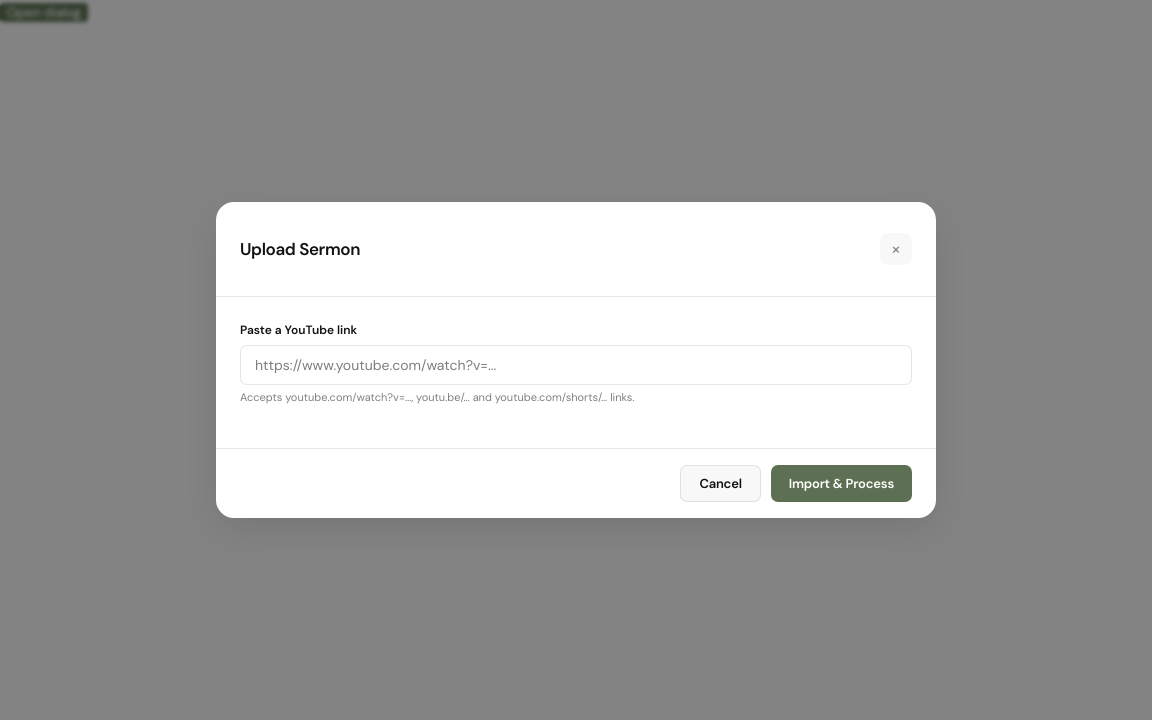
says "No series" for a sermon that has none
The width and height of the screenshot is (1152, 720).
Type "https://youtu.be/F_OiCiZ3Y3Y" into the field named "YouTube link" at (576, 365), box [240,345,912,385]
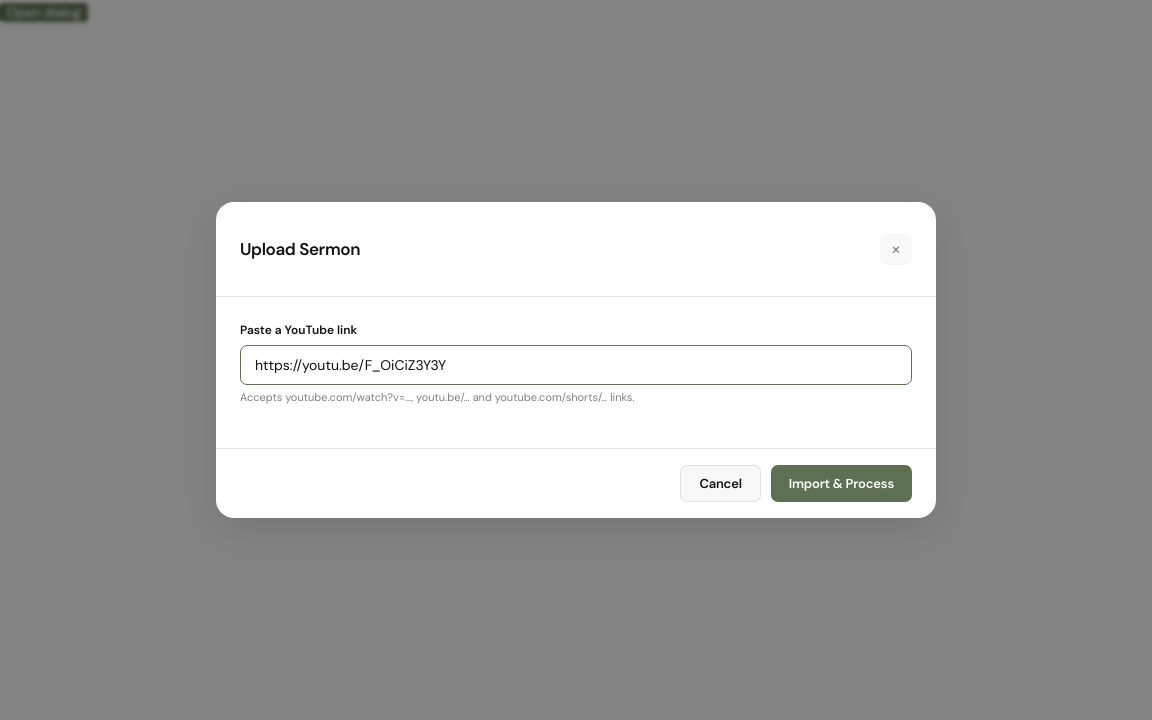
Click the button "Import & Process" at (841, 483), box [771,465,912,502]
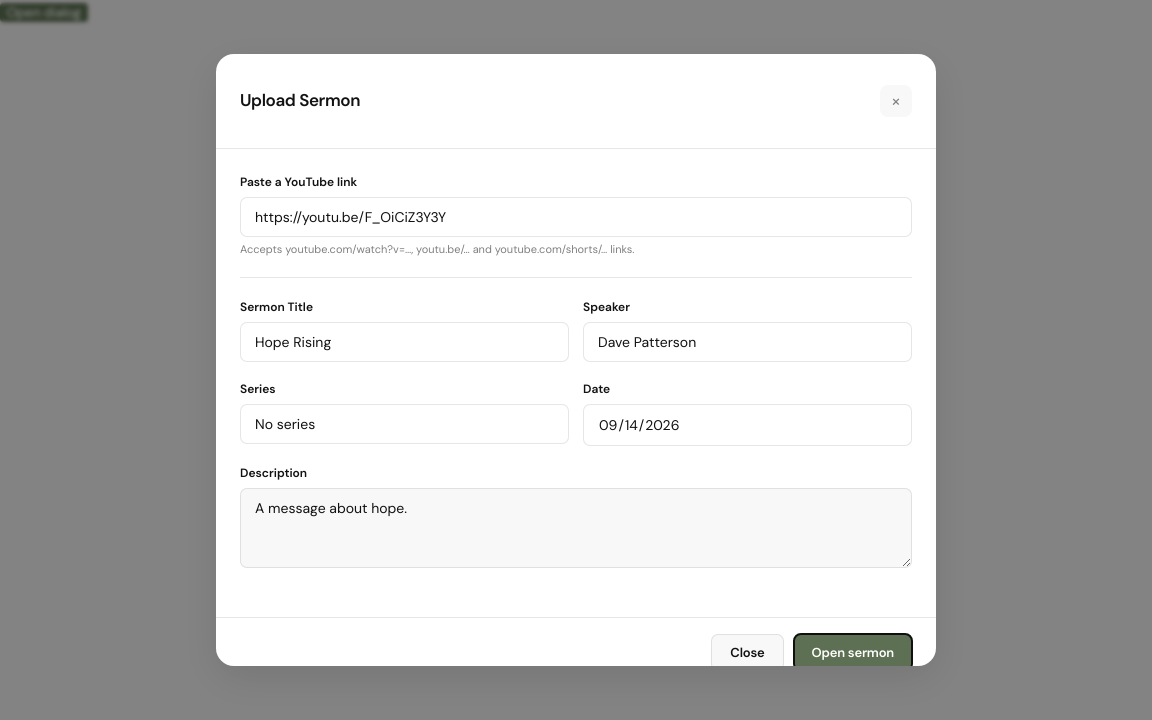
Result: the field named "Sermon title" is shown at [240,322,569,362]
Result: the field named "Series" holds "No series" at [240,404,569,444]
